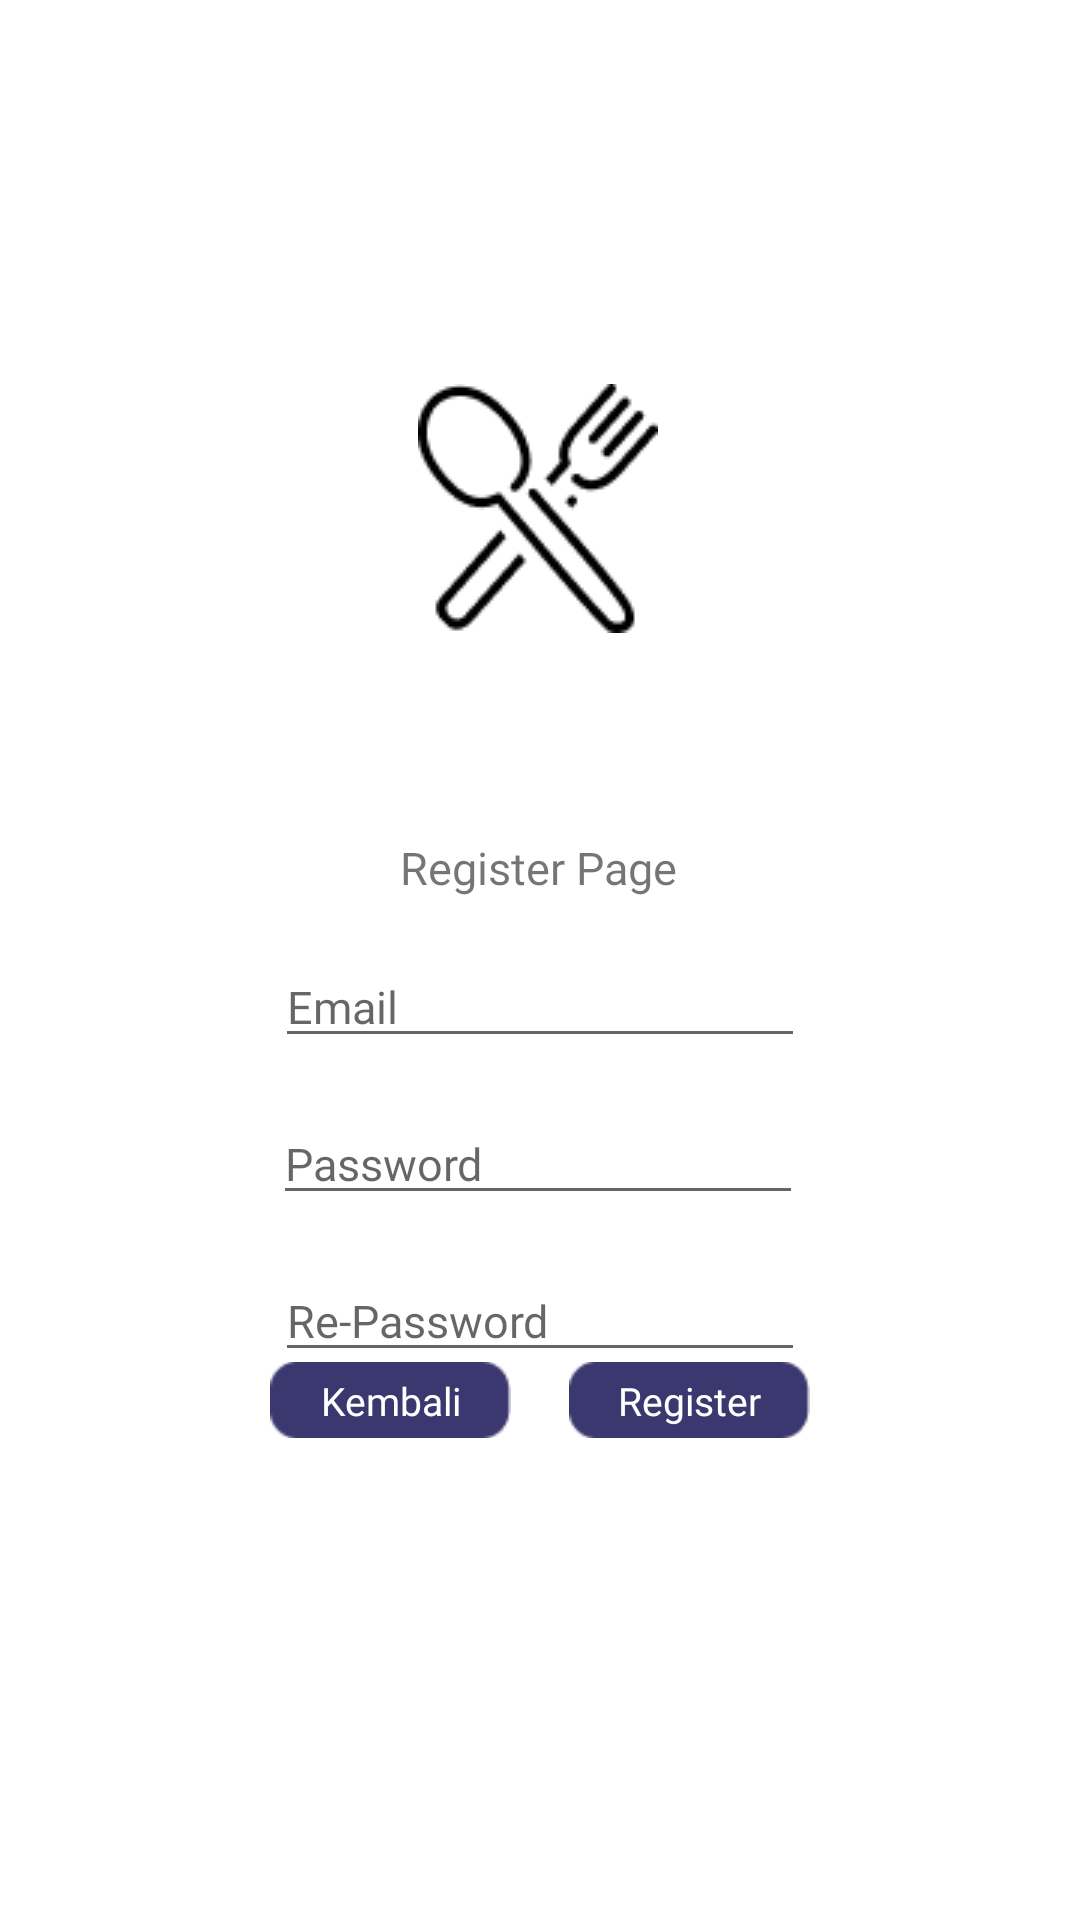

Locate icon controls on the screen. Image size 1080×1920, boxes as (x1, y1, x2, y2).
food: (418, 384, 658, 633)
